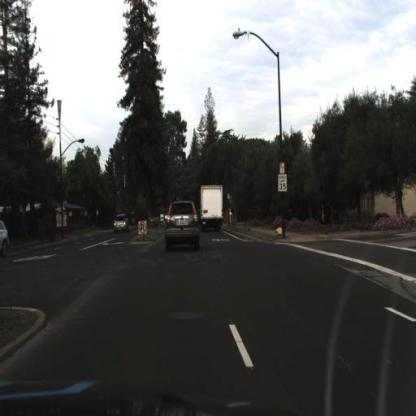car: (158, 191, 202, 262), (194, 181, 230, 236), (111, 210, 129, 238), (0, 218, 8, 262)
truck: (198, 180, 224, 230)
